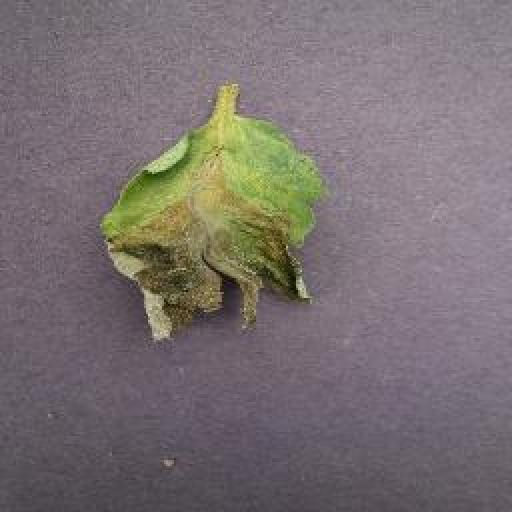Late Blight: (100, 105, 319, 339)
